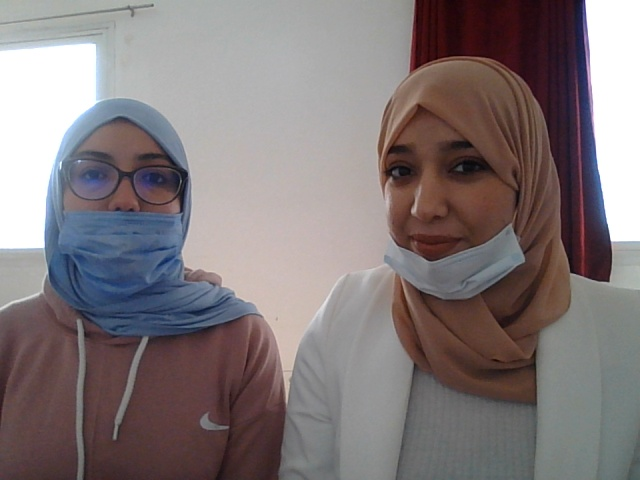mask_weared_incorrect: (354, 59, 565, 331), (52, 84, 203, 312)
